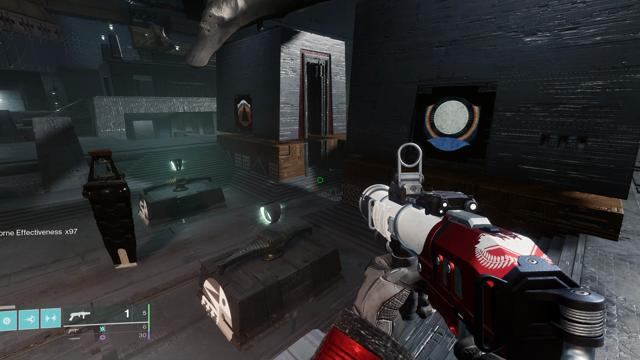pyramid: (237, 100, 252, 127)
traveler: (423, 98, 481, 152)
